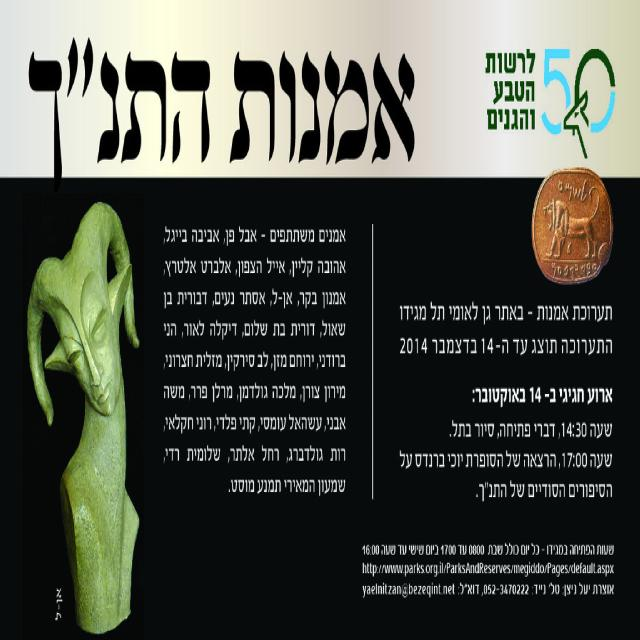Coin: (532, 163, 614, 286)
